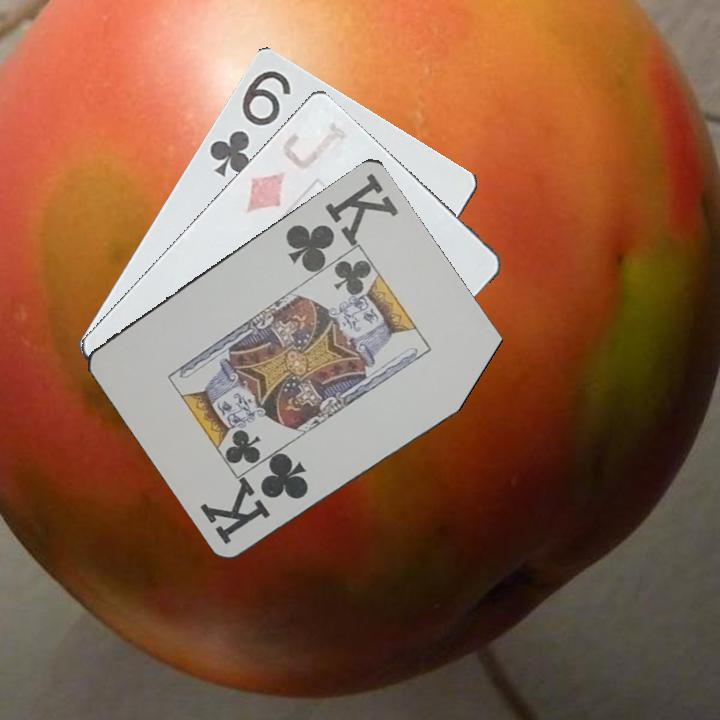6c: (205, 66, 294, 179)
Jd: (242, 112, 350, 215)
Kc: (281, 169, 401, 274), (201, 451, 313, 547)
